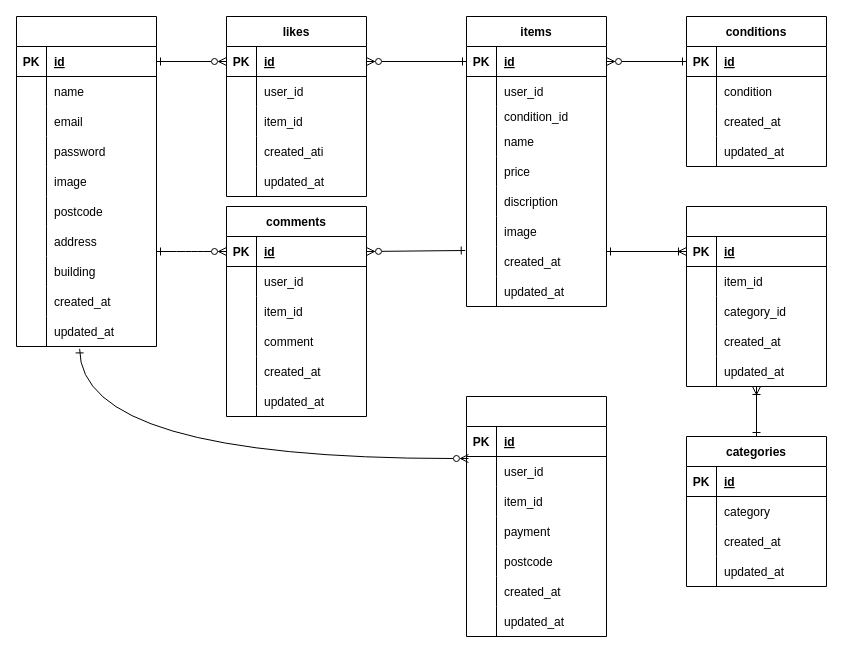
Some shapes in this 843 by 653 pixel diagram are drawn without their labels. Each missing label, with the box of its shape:
item_category: (686, 206, 826, 386)
orders: (466, 396, 606, 636)
users: (16, 16, 156, 346)
